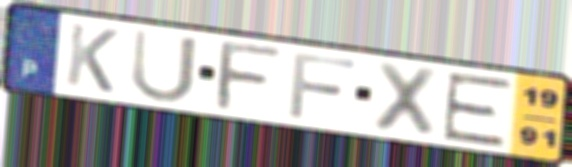E: (438, 70, 517, 149)
F: (211, 40, 288, 113), (286, 50, 359, 121)
K: (62, 20, 122, 96)
U: (129, 26, 201, 105)
X: (368, 58, 442, 142)
